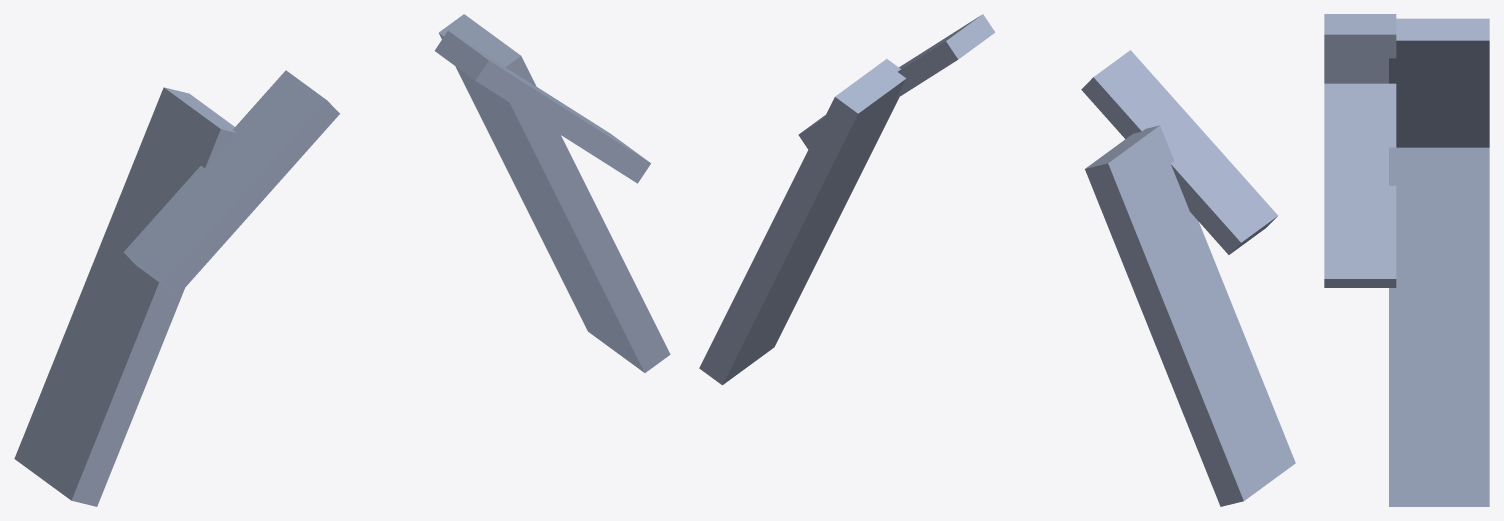
The model's file is enemy_phantom_blades.obj.
3 views of the same model, side by side, from view 1: azimuth 30°, elevation 25°; view 2: azimuth 150°, elevation 25°; view 3: azimuth 270°, elevation 25° (orthographic). The views are drawn at different scales.
Parts seen in each view (by area): view 1: blade; view 2: blade; view 3: blade.
Boxes of the visible parts, x1=… form: blade: x1=14, y1=14, x2=670, y2=506; blade: x1=699, y1=14, x2=1295, y2=506; blade: x1=1324, y1=14, x2=1489, y2=506.
Bounding box in the file's own units: 0.8476 × 0.5229 × 0.23.
